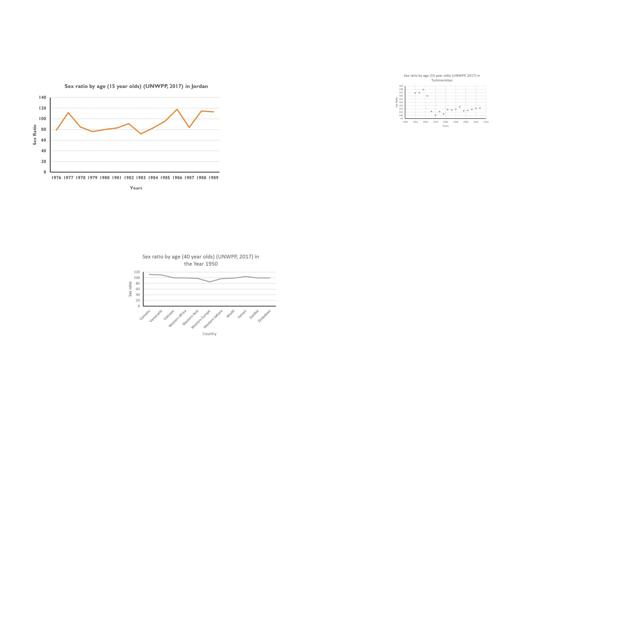Graph: (30, 79, 224, 193), (125, 252, 277, 338), (393, 72, 490, 129)
